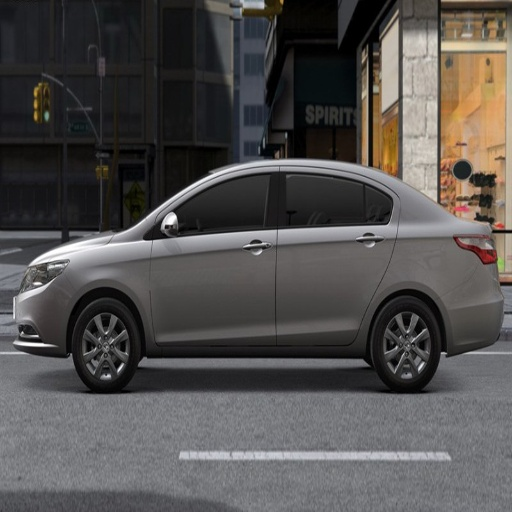back_left_door: (277, 165, 396, 345)
front_left_door: (150, 166, 280, 345)
